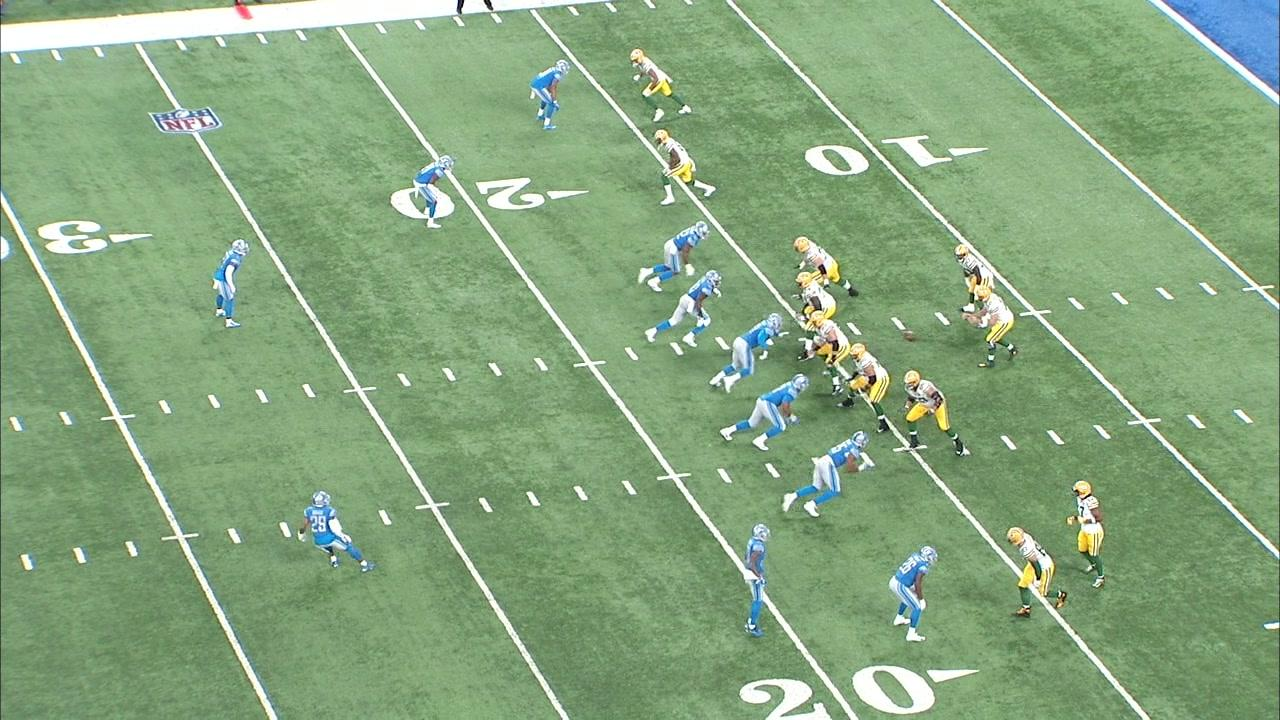defense: (777, 432, 875, 526), (717, 368, 807, 454), (300, 482, 378, 578), (878, 541, 938, 653), (646, 265, 722, 352), (708, 311, 786, 394), (634, 220, 712, 297), (733, 519, 780, 646), (203, 232, 255, 335), (405, 152, 458, 233), (524, 57, 572, 135)
oline: (902, 367, 970, 462), (843, 338, 893, 436), (790, 233, 860, 297), (806, 306, 850, 401), (791, 269, 838, 320)
qb: (967, 288, 1019, 368)
skill: (1005, 520, 1068, 621), (1067, 477, 1115, 592), (624, 49, 693, 118), (654, 129, 714, 204), (951, 242, 1001, 287)
